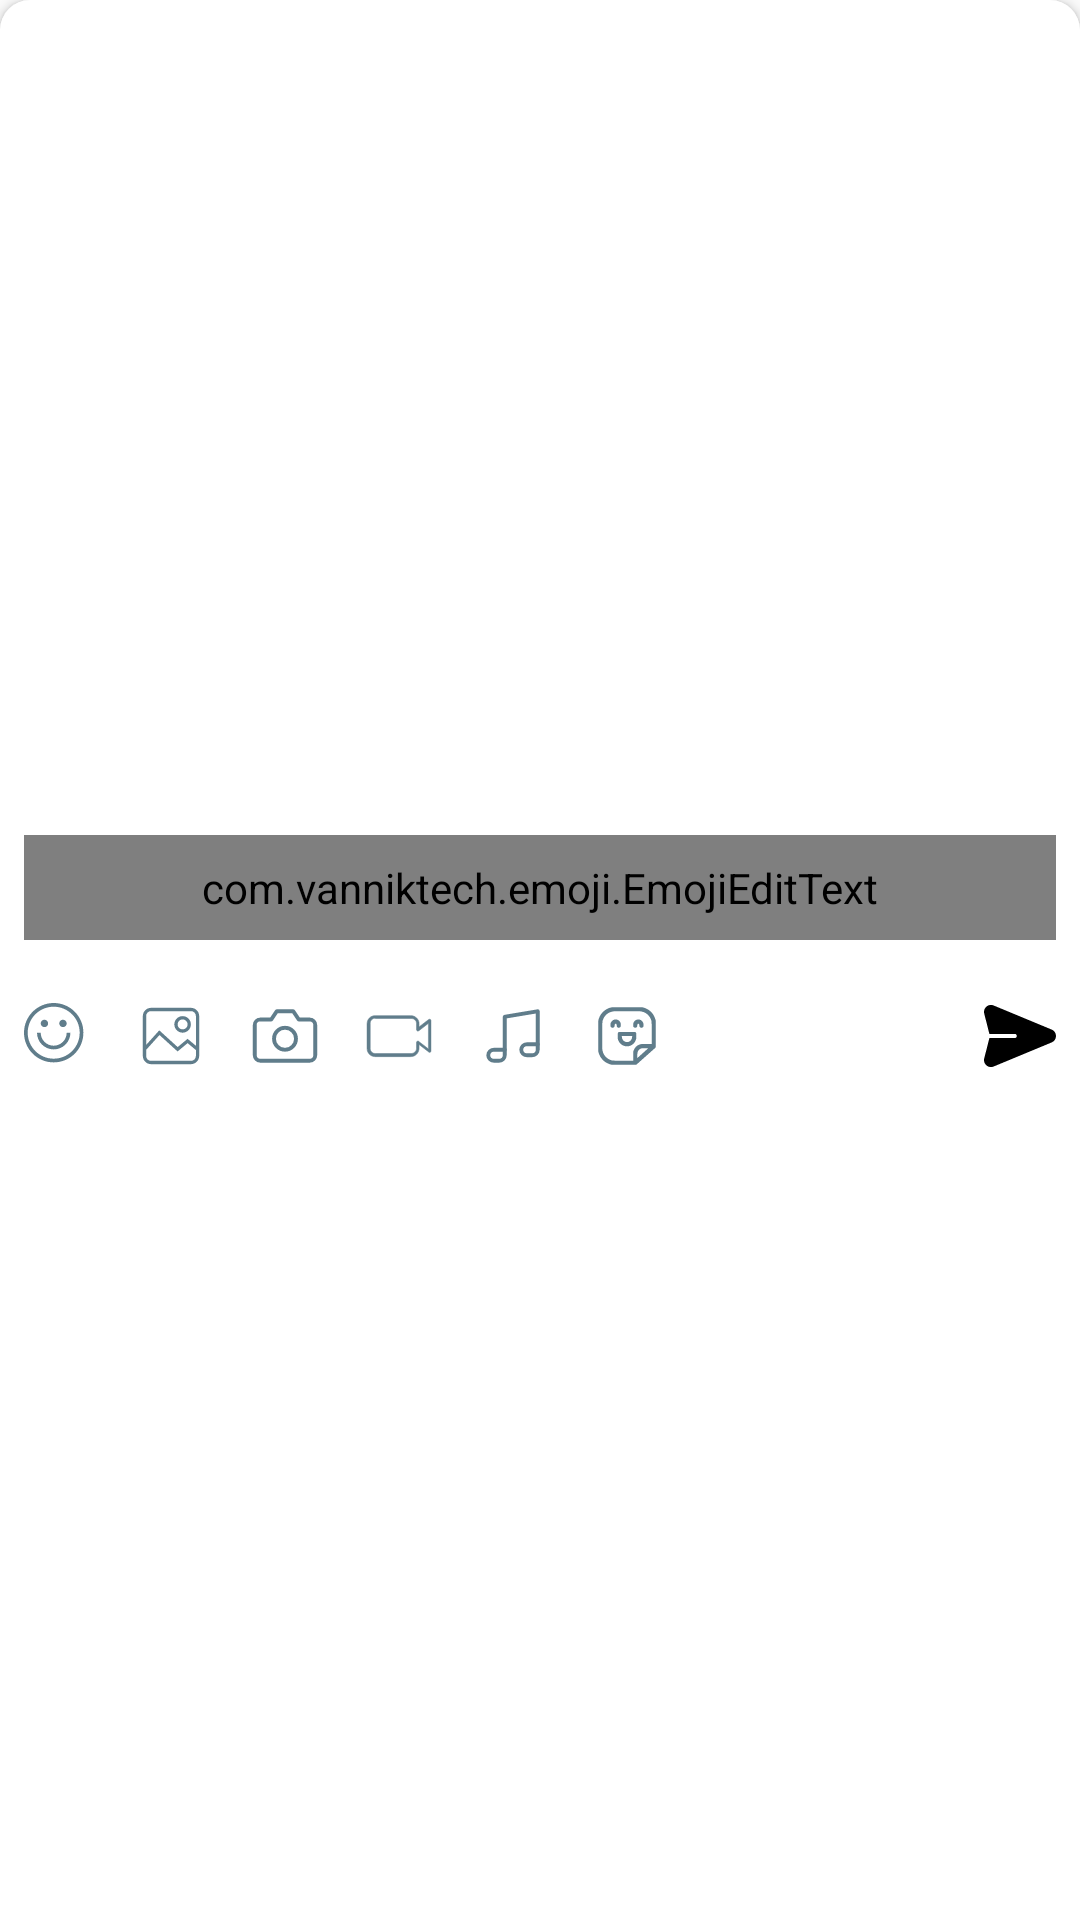

Point at icon controls on the screen. Image size 1080x1920, points as [x,y].
camera: [285,1036]
music: [513,1036]
send: [1020,1036]
sticker: [627,1036]
video: [399,1036]
